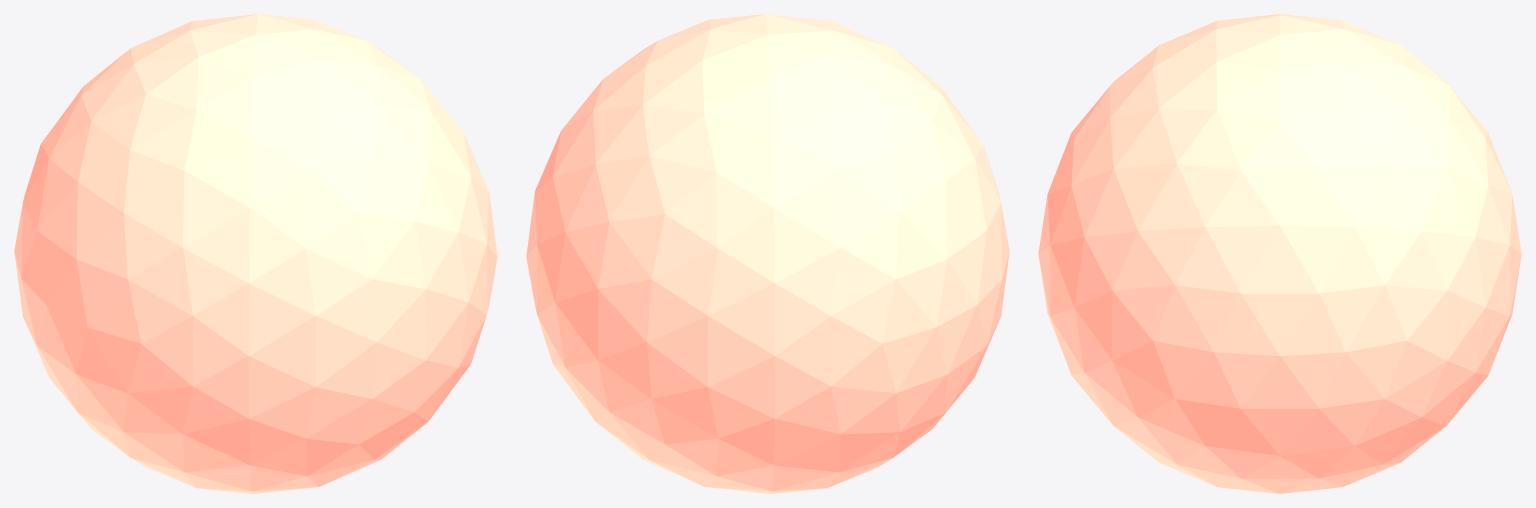
Rendered from hexad-utility.glb.
The picture shows the model from 3 angles, left to right: view 1: azimuth 30°, elevation 25°; view 2: azimuth 150°, elevation 25°; view 3: azimuth 270°, elevation 25°; orthographic projection.
Visible parts, largest first — view 1: Outer_Shell; view 2: Outer_Shell; view 3: Outer_Shell.
Part boxes in pixels (<box>): Outer_Shell: <box>14,14,497,493</box>; Outer_Shell: <box>526,14,1009,493</box>; Outer_Shell: <box>1038,14,1521,493</box>.
Bounding box in the file's own units: 2.28 × 2.28 × 2.28.
